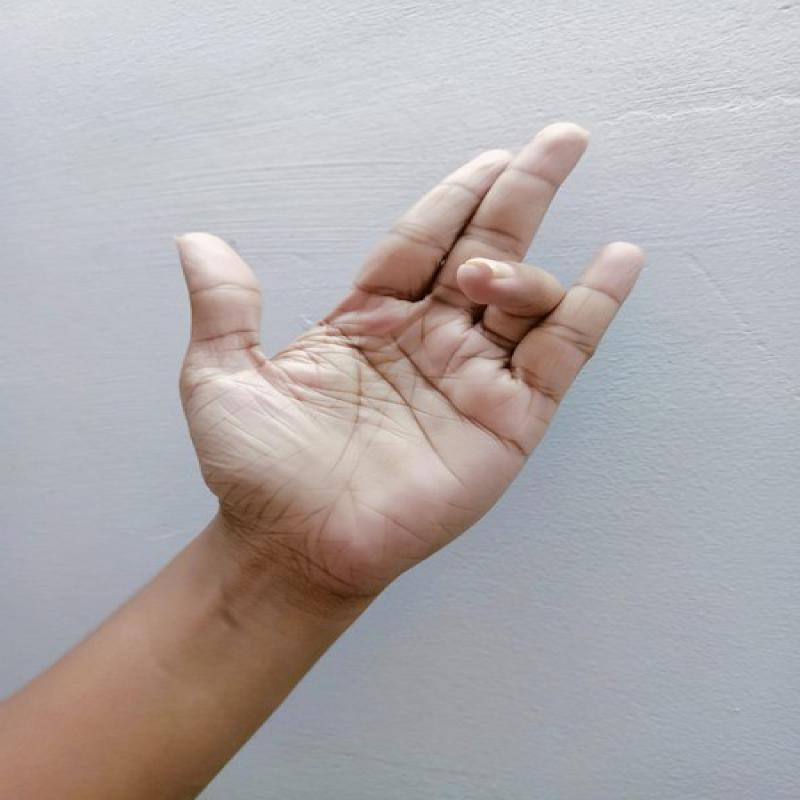Pathaaka: (165, 108, 651, 592)
